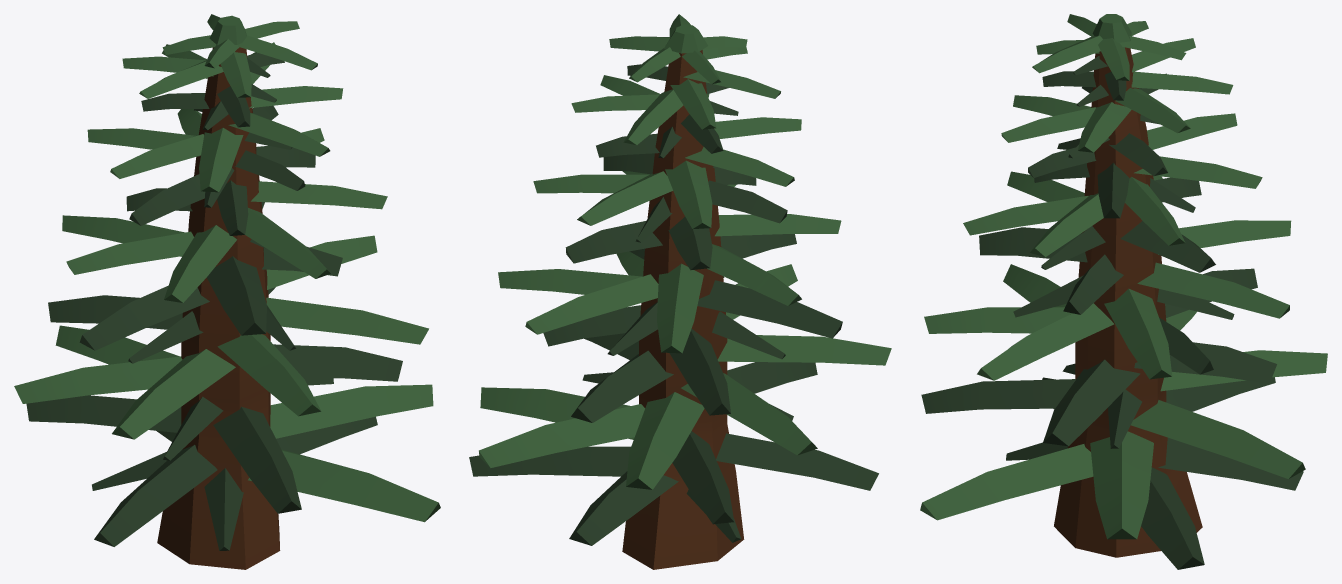
File: _P_Tree.fbx
3 renders of one model, left to right at view 1: azimuth 30°, elevation 25°; view 2: azimuth 150°, elevation 25°; view 3: azimuth 270°, elevation 25°, orthographic. The views are drawn at different scales.
Visible parts, largest first — view 1: Stump, Branch_30, Branch_1, Branch_29, Branch_33, Branch_5, Branch_4, Branch_7, Branch_6, Branch_39, Branch_36, Branch_35 (+33 smaller); view 2: Stump, Branch_2, Branch_3, Branch_33, Branch_5, Branch_35, Branch_32, Branch_10, Branch_9, Branch_34, Branch_38, Branch_31 (+34 smaller); view 3: Stump, Branch_30, Branch_1, Branch_2, Branch_29, Branch_39, Branch_32, Branch_8, Branch_7, Branch_9, Branch_6, Branch_31 (+38 smaller).
Part boxes in pixels (x1,y1,x2,y2): Stump: (157, 47, 280, 569); Branch_30: (248, 449, 440, 522); Branch_1: (270, 384, 433, 438); Branch_29: (213, 406, 301, 513); Branch_33: (94, 444, 217, 546); Branch_5: (112, 349, 235, 439); Branch_4: (14, 356, 182, 403); Branch_7: (266, 297, 428, 344); Branch_6: (217, 334, 321, 416); Branch_39: (273, 344, 402, 381); Branch_36: (207, 256, 266, 335); Branch_35: (79, 285, 209, 350); Stump: (622, 50, 744, 569); Branch_2: (479, 404, 644, 467); Branch_3: (626, 392, 704, 489); Branch_33: (716, 433, 878, 490); Branch_5: (717, 335, 891, 365); Branch_35: (697, 280, 842, 338); Branch_32: (469, 446, 630, 476); Branch_10: (657, 263, 703, 353); Branch_9: (525, 274, 658, 334); Branch_34: (672, 431, 734, 524); Branch_38: (571, 350, 673, 422); Branch_31: (569, 471, 678, 545); Stump: (1054, 47, 1202, 557); Branch_30: (920, 444, 1093, 520); Branch_1: (1090, 431, 1153, 539); Branch_2: (1131, 400, 1305, 478); Branch_29: (921, 379, 1075, 413); Branch_39: (1043, 359, 1140, 446); Branch_32: (1141, 467, 1204, 569); Branch_8: (1104, 288, 1172, 379); Branch_7: (977, 303, 1113, 380); Branch_9: (1137, 262, 1289, 318); Branch_6: (924, 307, 1071, 333); Branch_31: (1158, 437, 1303, 490).
Bounding box in the file's own units: 12.4 × 16.31 × 11.73.
